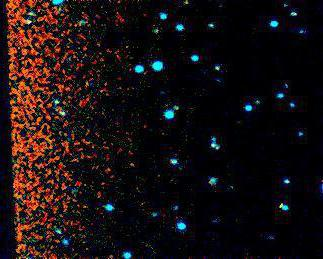star: (265, 188, 295, 218)
